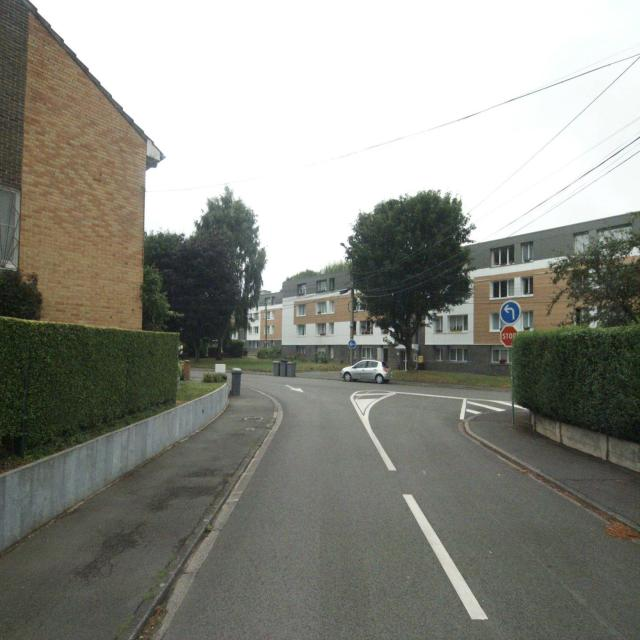car: (340, 358, 392, 383)
